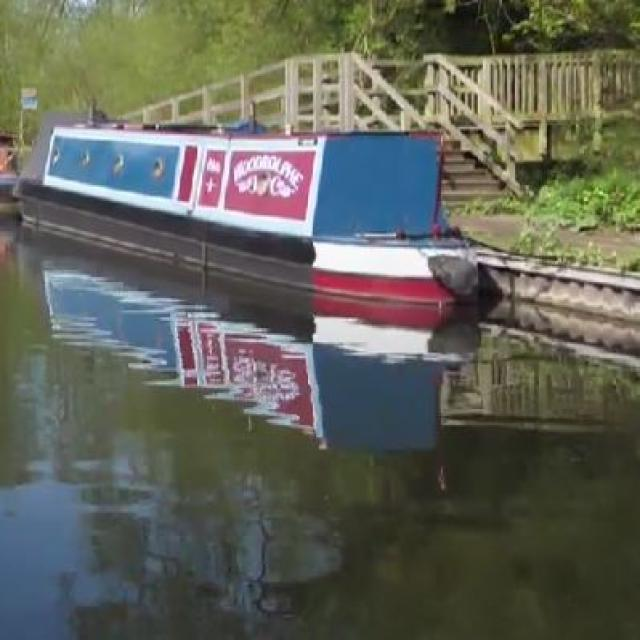boat: (27, 111, 478, 324)
